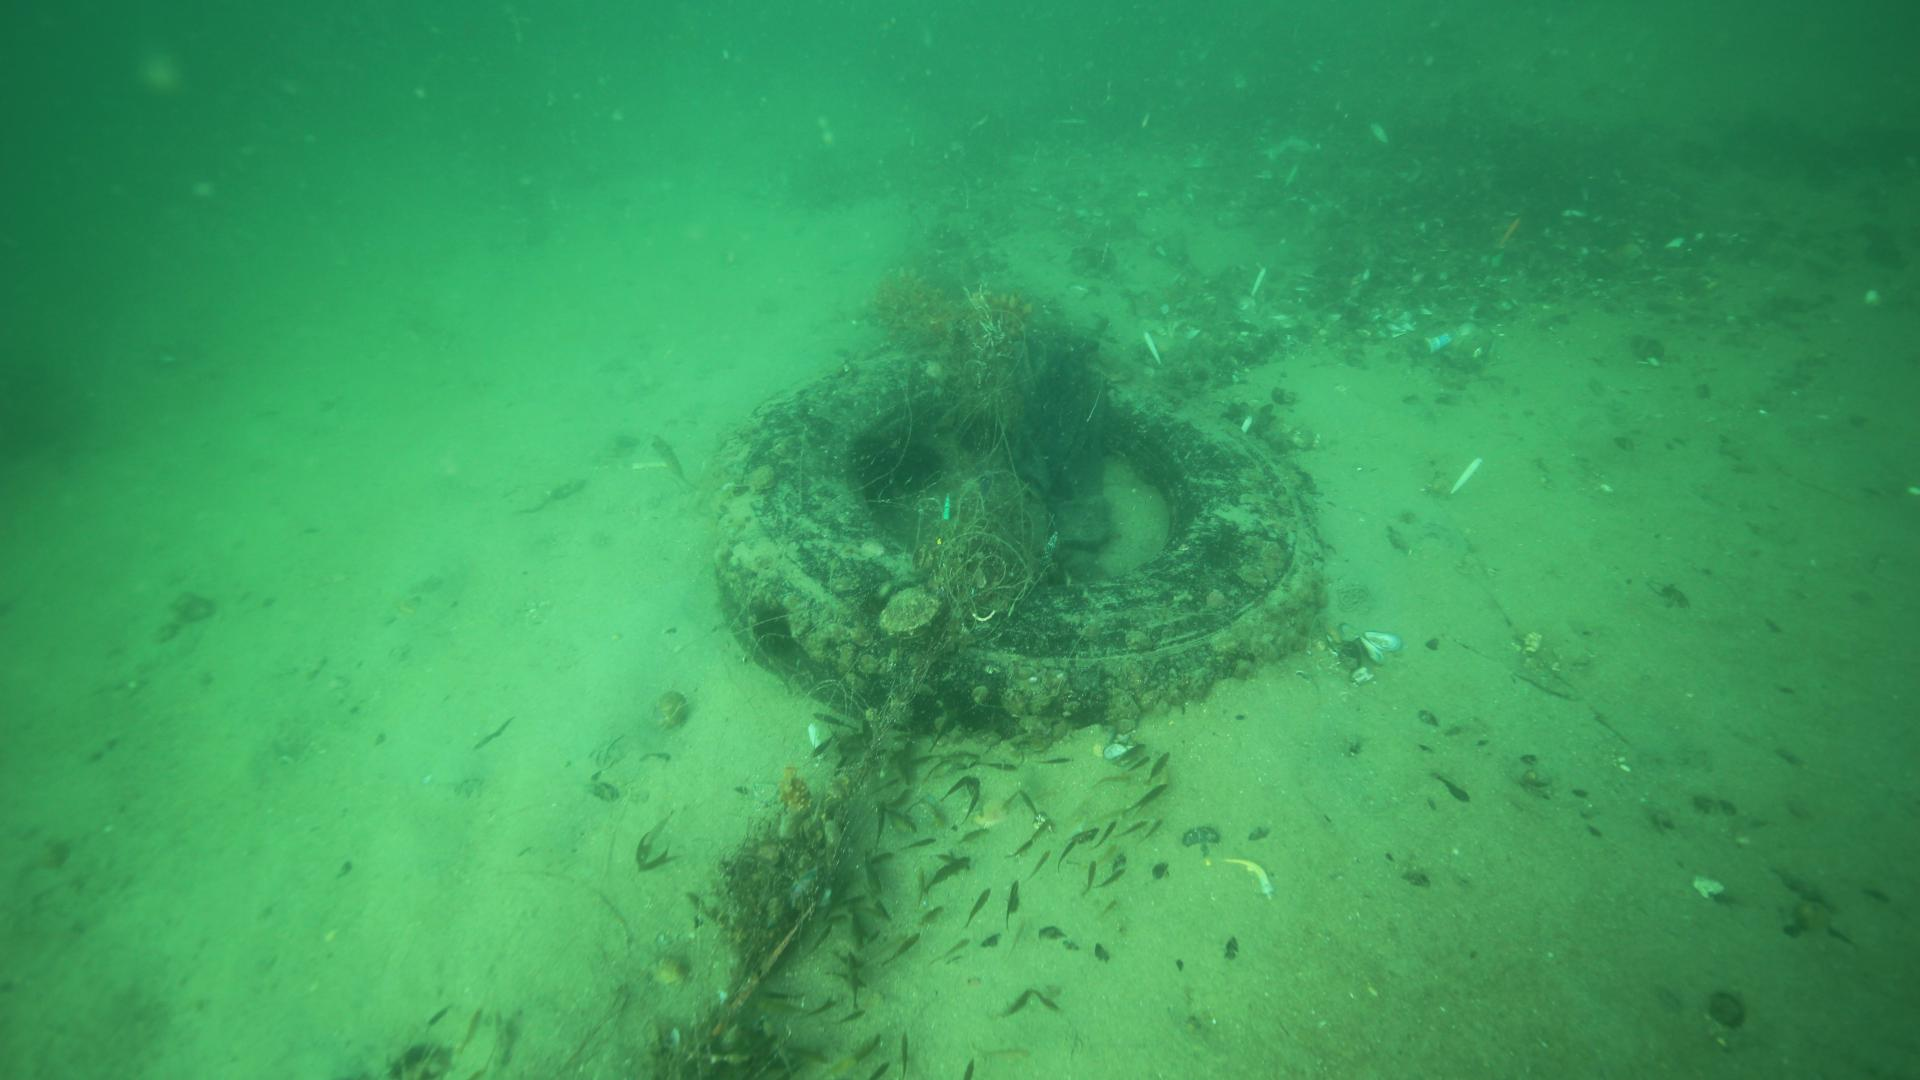tire: (707, 348, 1332, 741)
